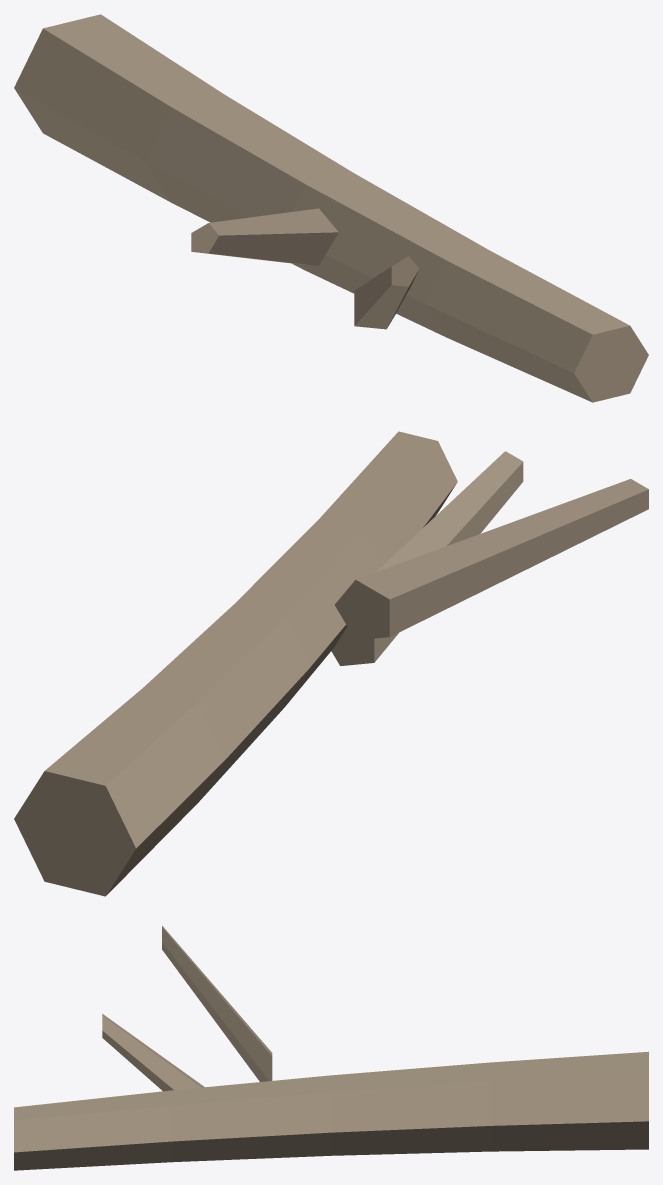
File: driftwood_a.glb
The picture shows the model from 3 angles, top to bottom: view 1: azimuth 30°, elevation 25°; view 2: azimuth 150°, elevation 25°; view 3: azimuth 270°, elevation 25°; orthographic projection. The views are drawn at different scales.
Visible parts, largest first — view 1: driftwood_a; view 2: driftwood_a; view 3: driftwood_a.
Part boxes in pixels (x1,y1,x2,y2): driftwood_a: (14, 14, 648, 402); driftwood_a: (14, 431, 648, 896); driftwood_a: (14, 925, 648, 1170).
Size of the model in its own units: 2.1 by 1.11 by 4.4.
